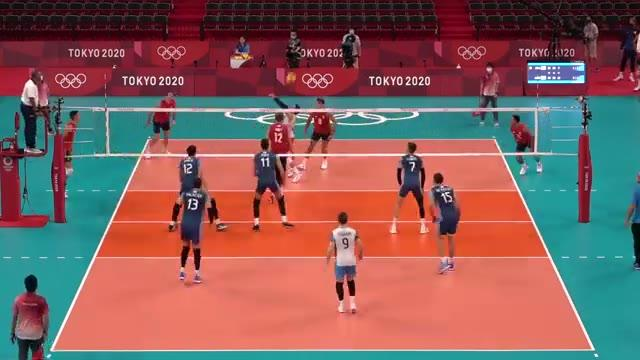ball: (285, 70, 298, 84)
